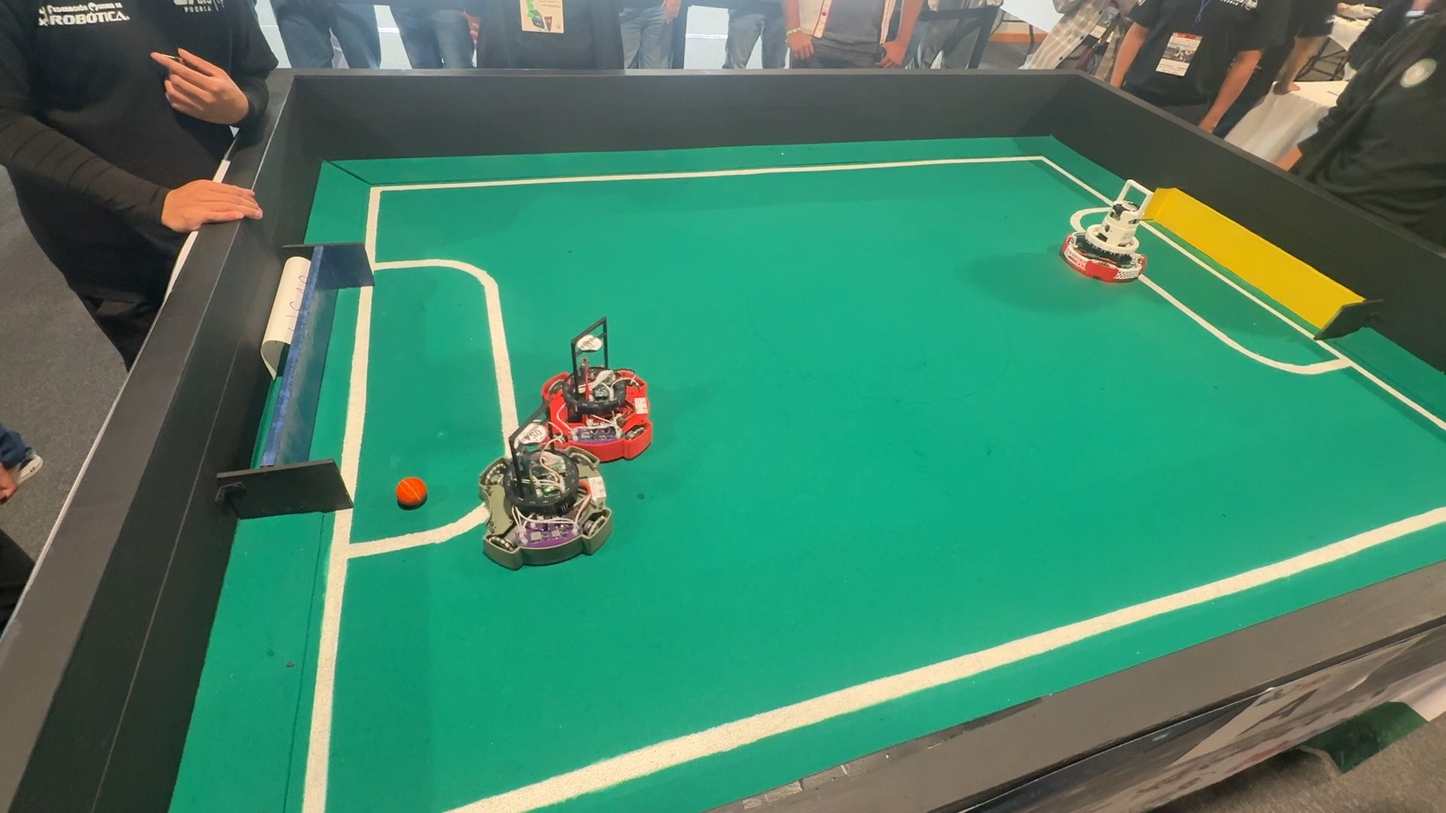Robot: (471, 407, 619, 580), (535, 316, 653, 467), (1050, 179, 1186, 296)
pelota: (392, 475, 430, 512)
